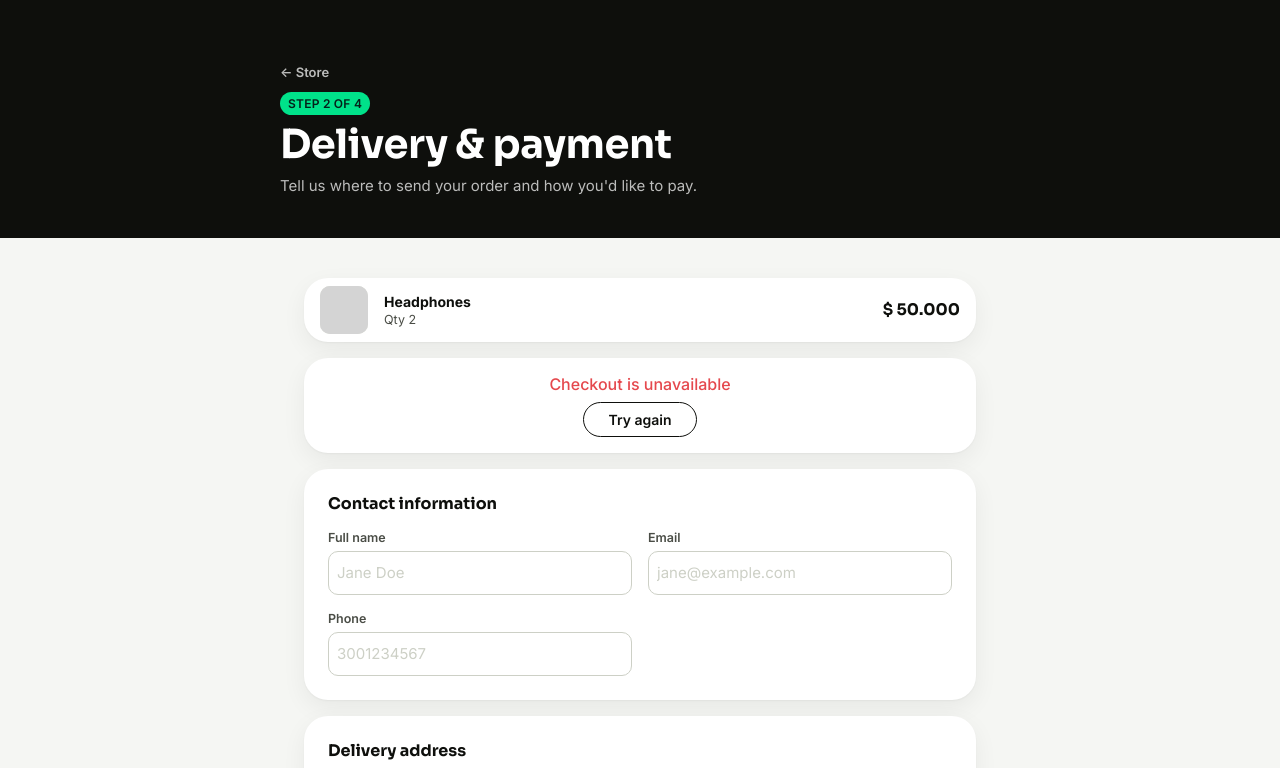
CheckoutPage › shows a retry banner when the checkout config fails to load
Check: the text "Checkout is unavailable" is shown, box [549,374,731,394]
Click the button "Try again" at (640, 419), box [584,402,697,436]
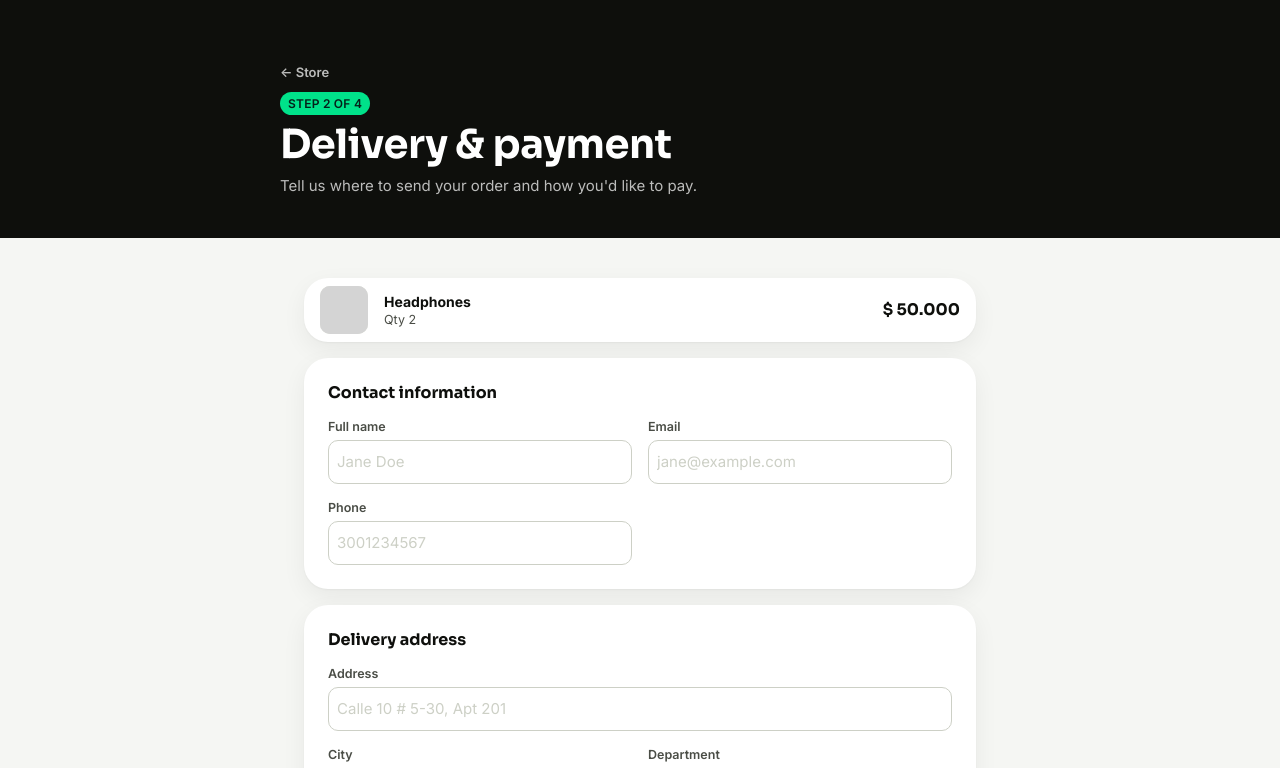
Check: the text "Checkout is unavailable" is gone
